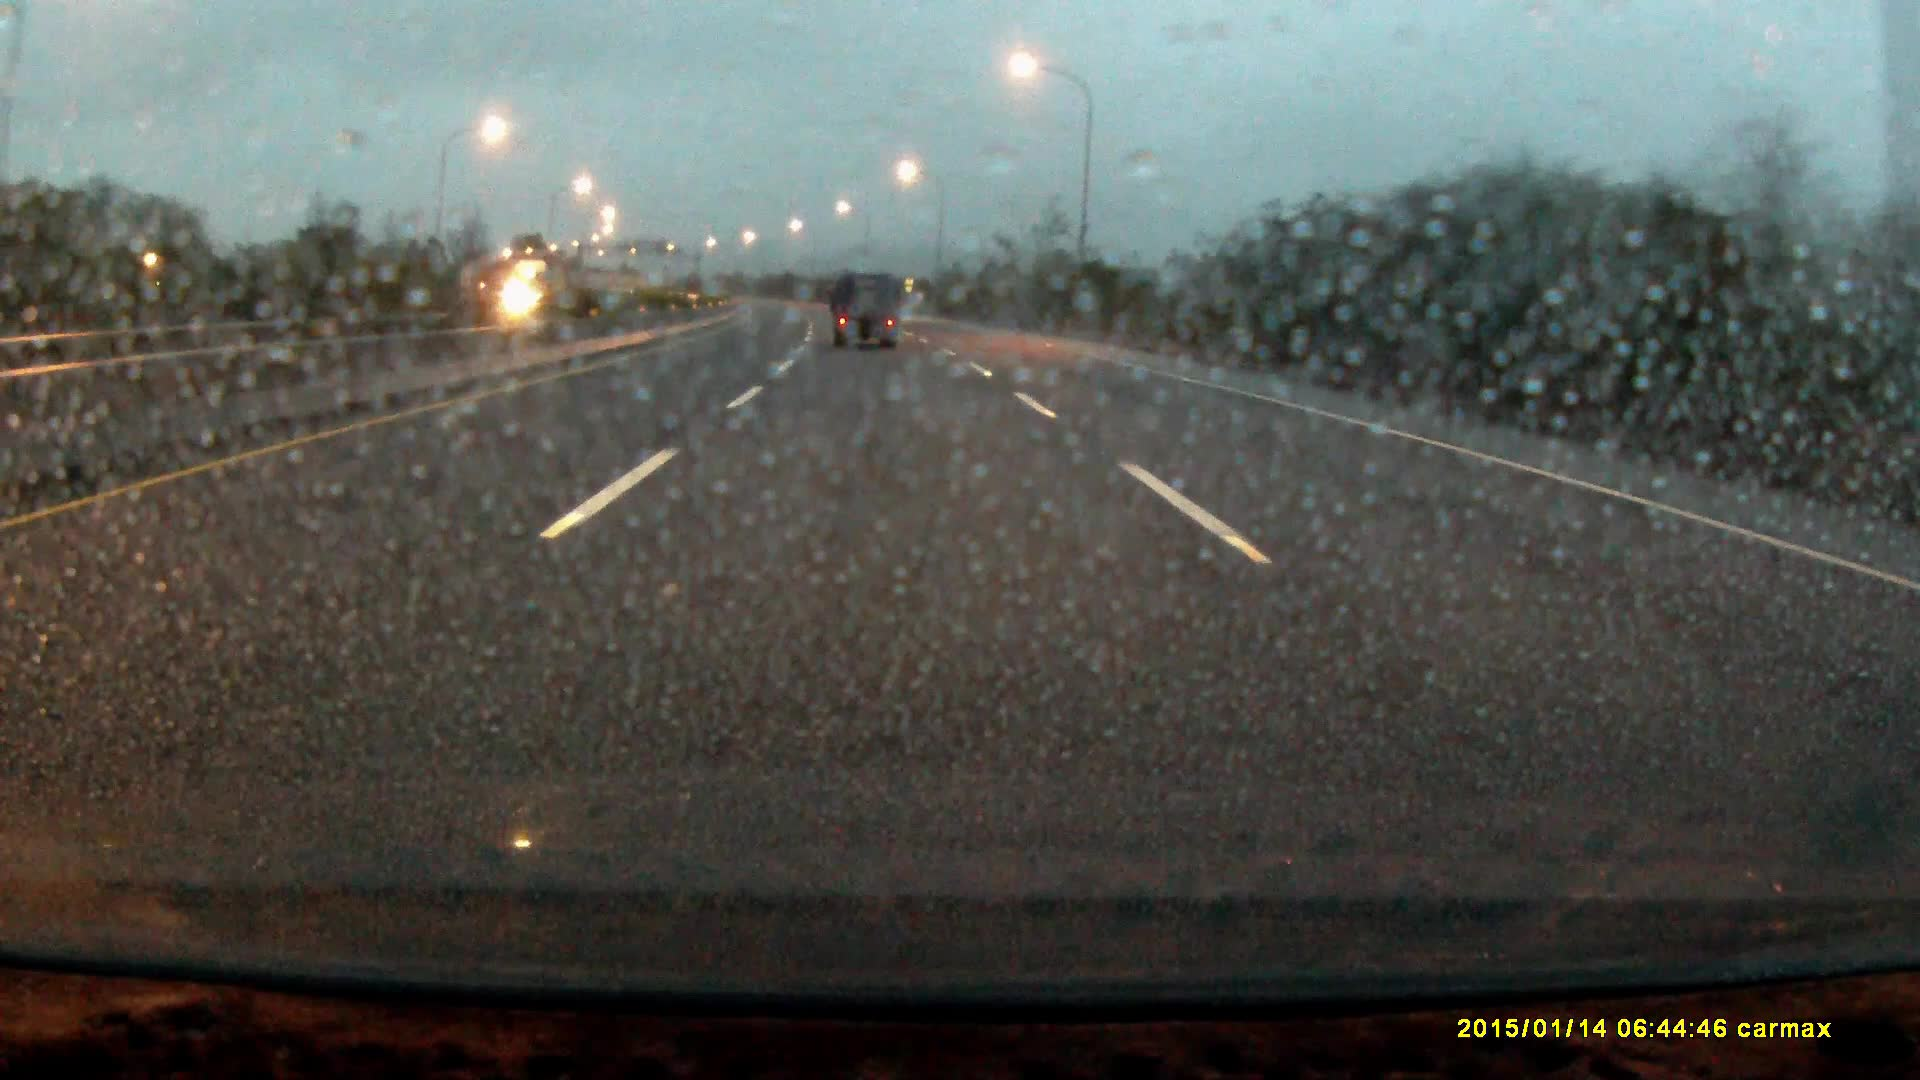vehicle: (500, 255, 589, 327), (833, 272, 903, 351)
